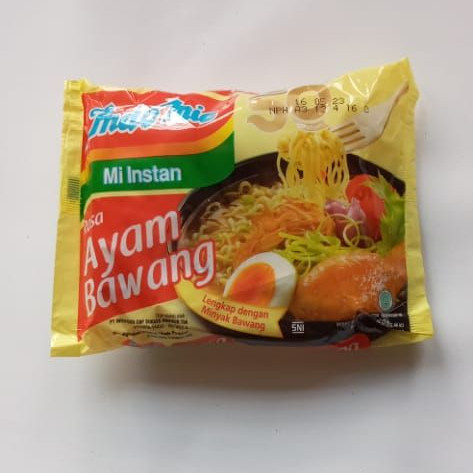Indomie Ayam Bawang (69g): (50, 56, 417, 372)
